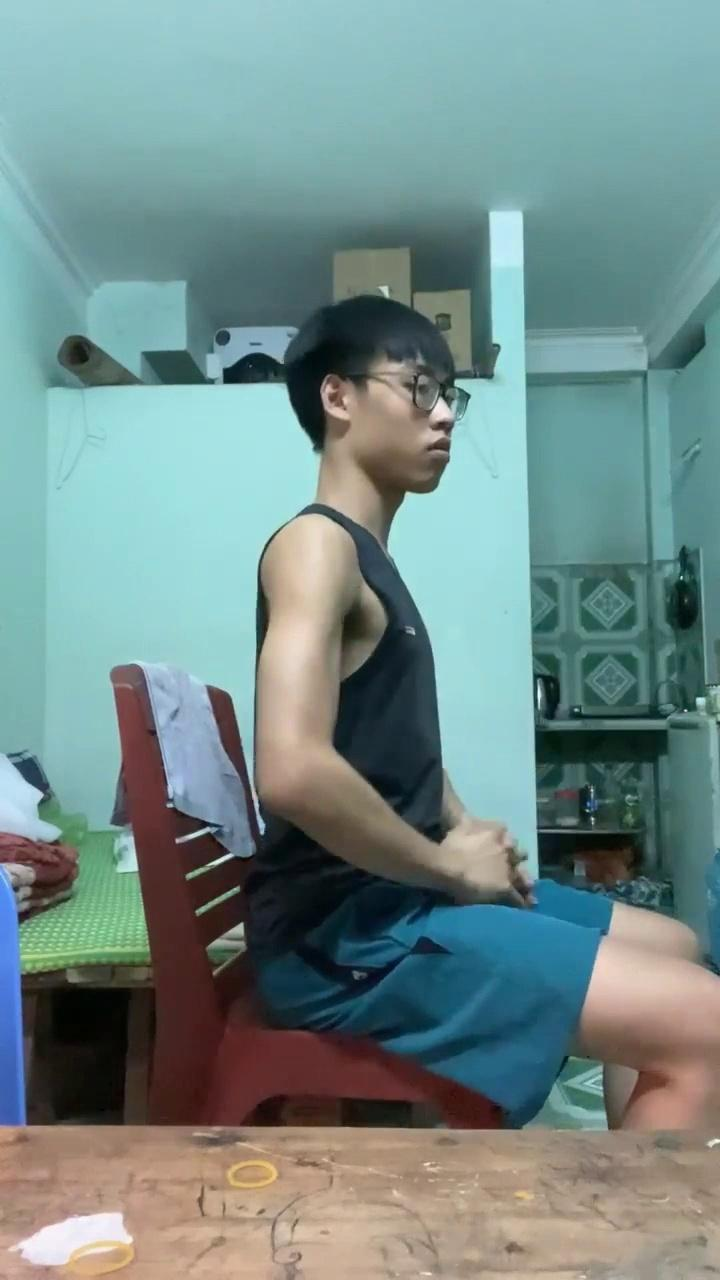GoodPosture: (248, 291, 719, 1128)
